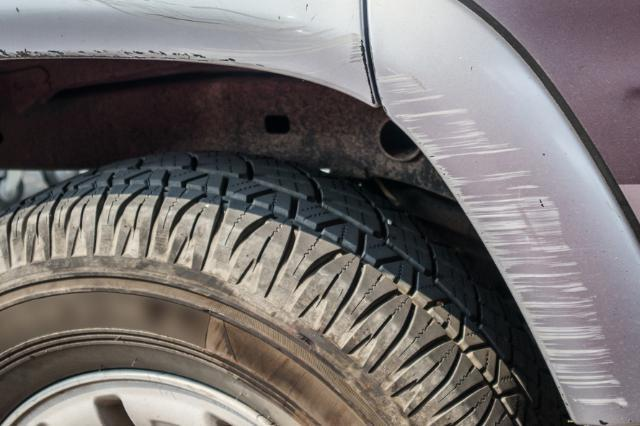Bumper: (383, 39, 640, 426)
Fender: (6, 4, 372, 95)
